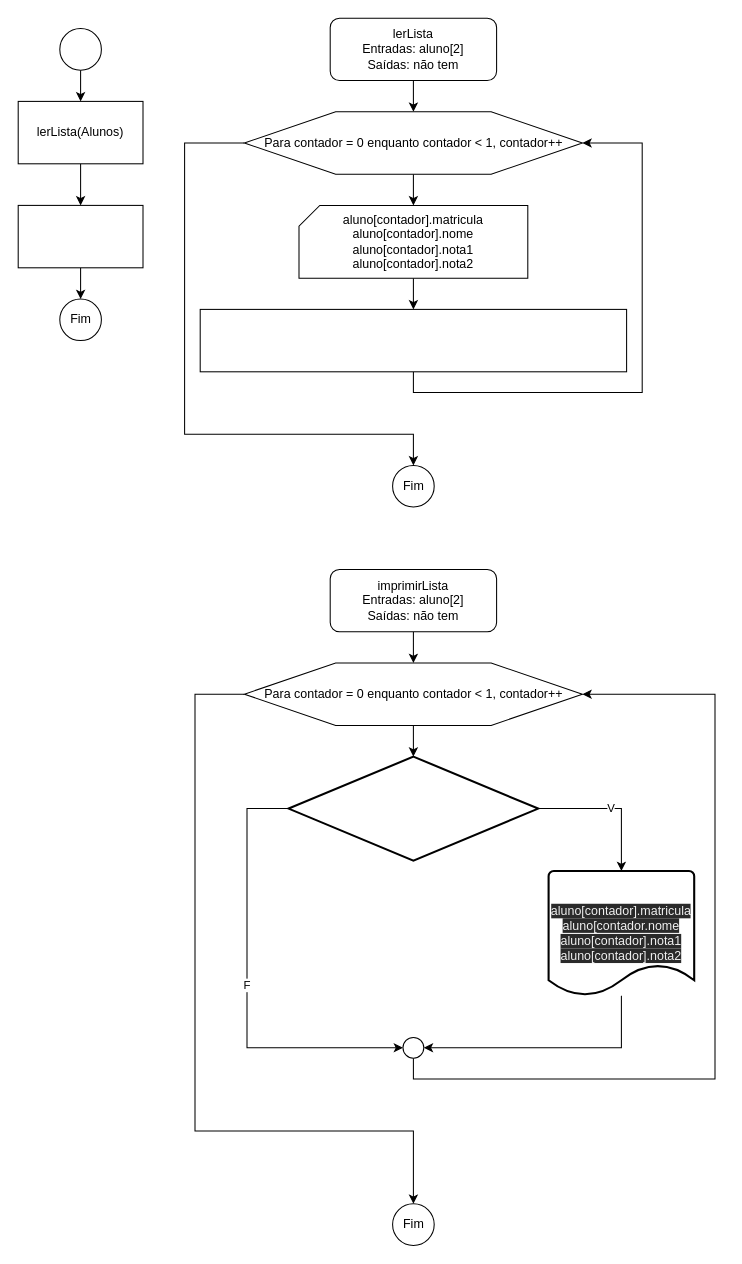
Image size: 742x1264. Some labels were removed from this diagram. Each missing label, with the centre of its shape:
(aluno[contador].media >= 7): the point at 413,808
aluno[contador].media = (aluno[contador].nota1 + aluno[contador].nota2) / 2: the point at 413,340
imprimirLista(Alunos): the point at 80,236
Início: the point at 80,49
